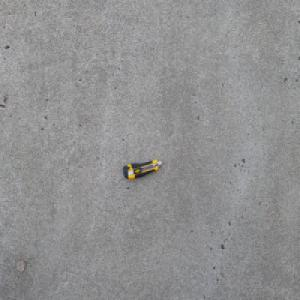Cutter: (122, 159, 162, 179)
